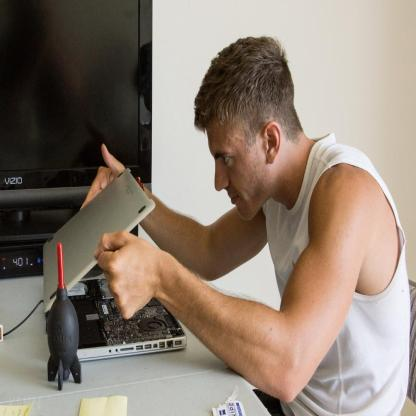board: (43, 168, 185, 362)
